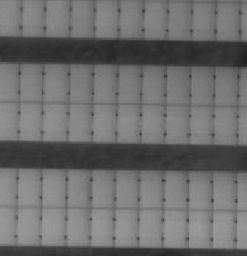solar: (17, 61, 46, 104), (41, 61, 70, 104), (66, 61, 95, 104), (91, 61, 120, 104), (115, 62, 144, 105), (139, 63, 168, 106), (163, 63, 192, 106), (187, 64, 216, 107), (212, 64, 241, 107), (15, 100, 44, 143), (41, 99, 70, 142), (67, 99, 96, 142), (89, 101, 118, 144), (114, 103, 143, 146), (138, 103, 167, 146), (163, 103, 192, 146), (187, 103, 216, 146), (212, 104, 241, 147), (15, 165, 44, 208), (39, 167, 68, 210), (64, 167, 93, 210), (89, 167, 118, 210), (112, 168, 141, 211), (137, 168, 166, 211), (161, 168, 190, 211), (185, 169, 214, 212), (209, 169, 238, 212), (13, 203, 42, 246), (39, 203, 68, 246), (63, 204, 92, 247), (88, 205, 117, 248), (112, 205, 141, 248), (136, 206, 165, 249), (161, 206, 190, 249), (184, 207, 213, 250), (209, 207, 238, 250)
